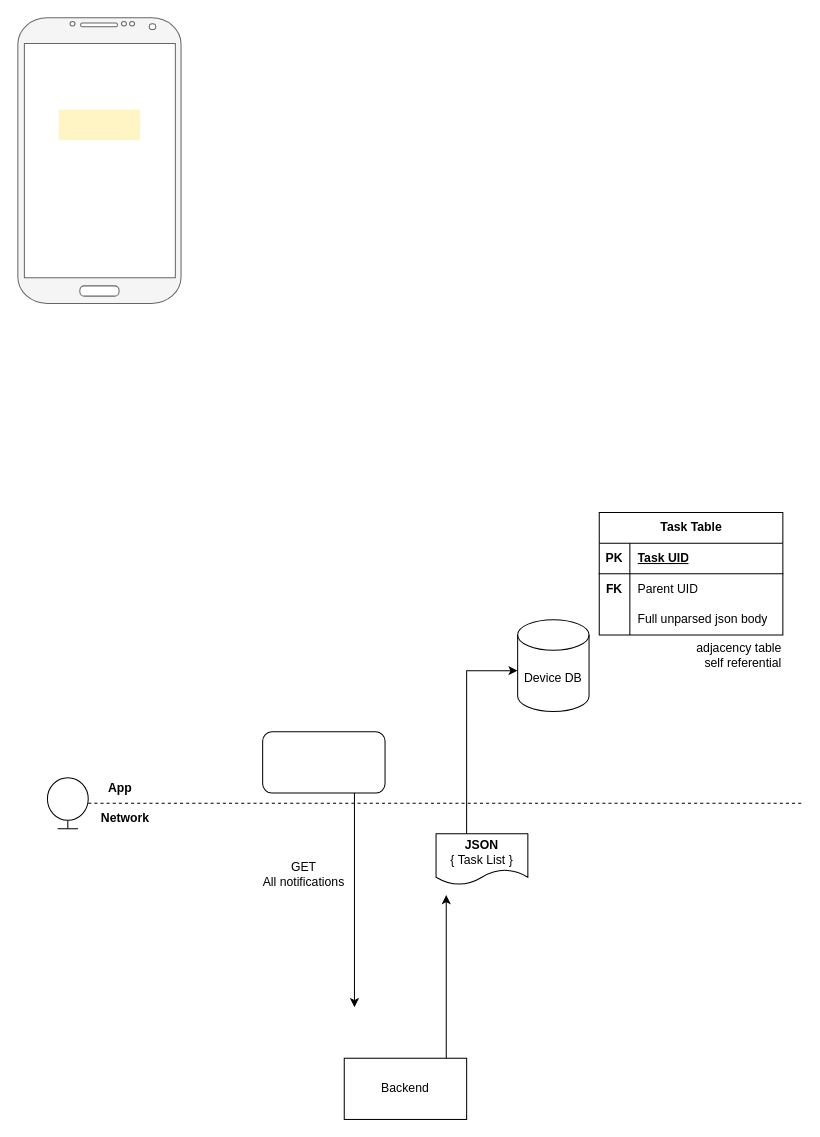
The diagram is 820 pixels wide and 1137 high, and some of its shapes have lost their labels. Each missing label, with the centre of its shape:
"ACDC App" belongs at point 99,124.
"KTOR Client" belongs at point 323,762.
